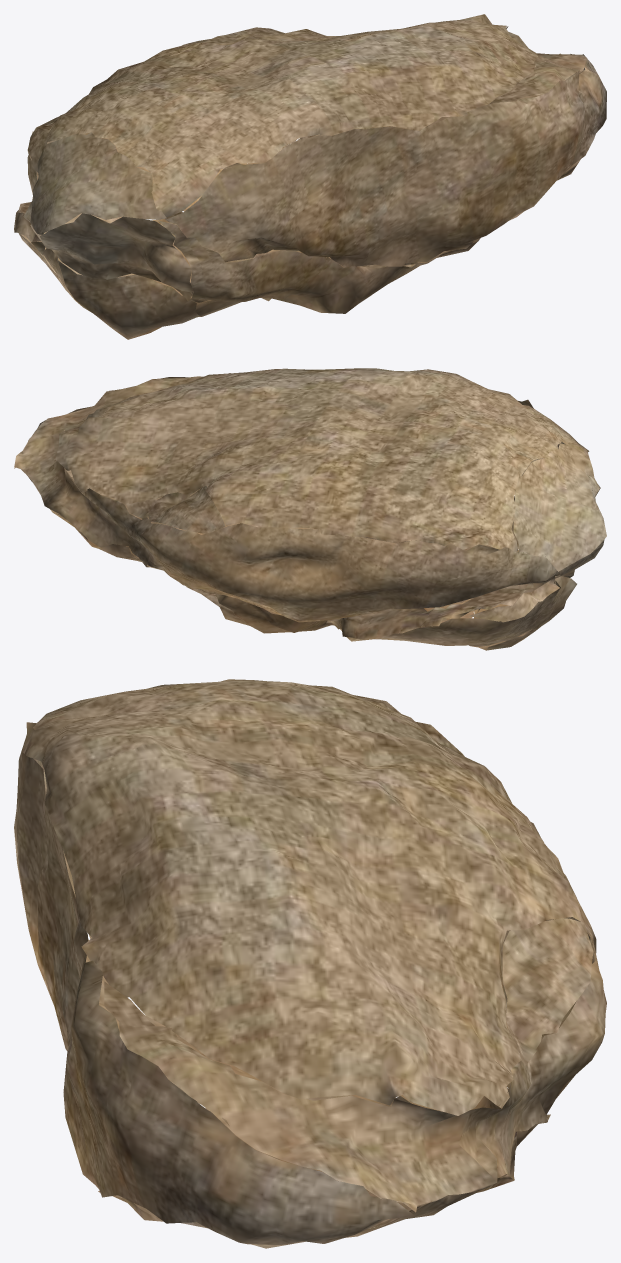
File: boulderC.glb
The picture shows the model from 3 angles, top to bottom: view 1: azimuth 30°, elevation 25°; view 2: azimuth 150°, elevation 25°; view 3: azimuth 270°, elevation 25°; orthographic projection. The views are drawn at different scales.
Parts seen in each view (by area): view 1: namaqualand_boulder_05; view 2: namaqualand_boulder_05; view 3: namaqualand_boulder_05.
Boxes of the visible parts, bbox=[...] form: namaqualand_boulder_05: bbox=[14, 14, 606, 339]; namaqualand_boulder_05: bbox=[14, 368, 606, 650]; namaqualand_boulder_05: bbox=[14, 679, 606, 1248].
Size of the model in its own units: 1.36 by 0.5323 by 0.7409.
Materials: 1 (1 with a texture image).
